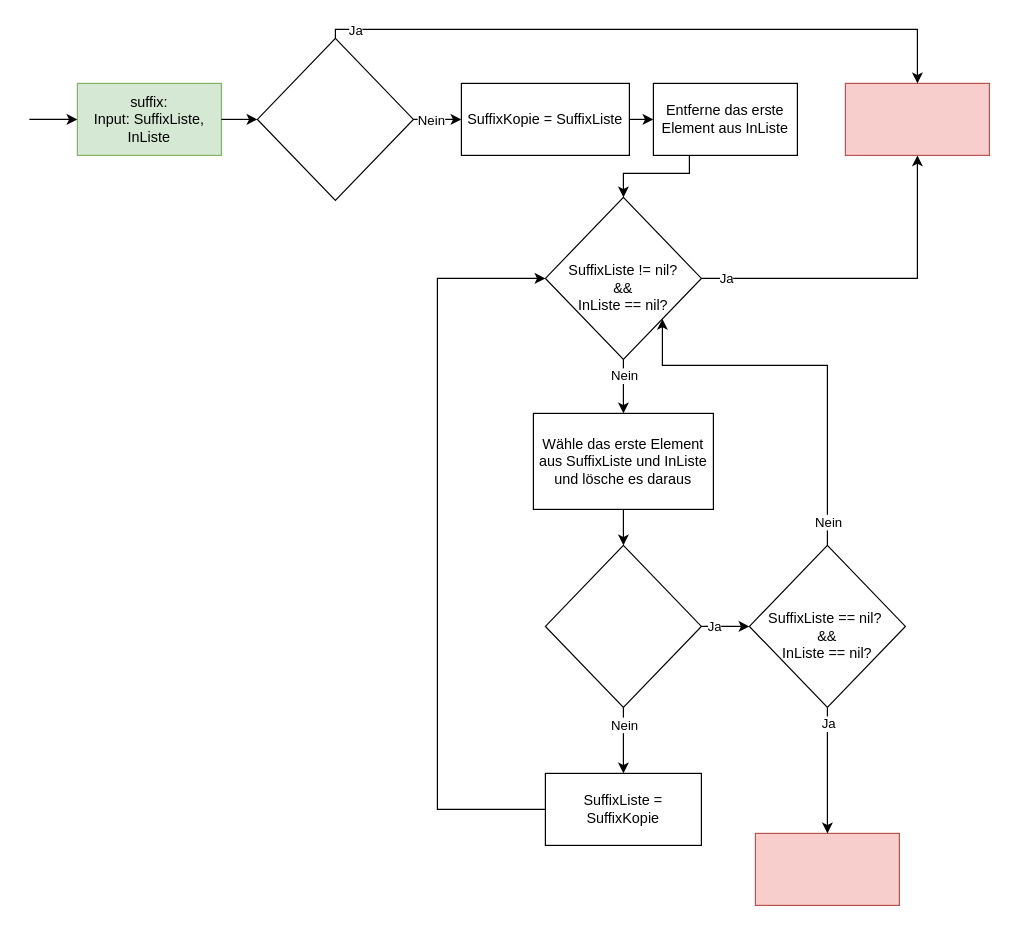
Image size: 1010x926. Some labels were removed from this diagram. Here are the shapes that lost their labels. From the top down, the box of each, then its label:
(256, 37, 413, 200): SuffixListe == nil? oder InListe == nil?
(844, 82, 989, 155): Gib FALSCH zurück
(544, 544, 701, 707): sind beide Elemente gleich
(754, 832, 899, 905): Gib WAHR zurück
